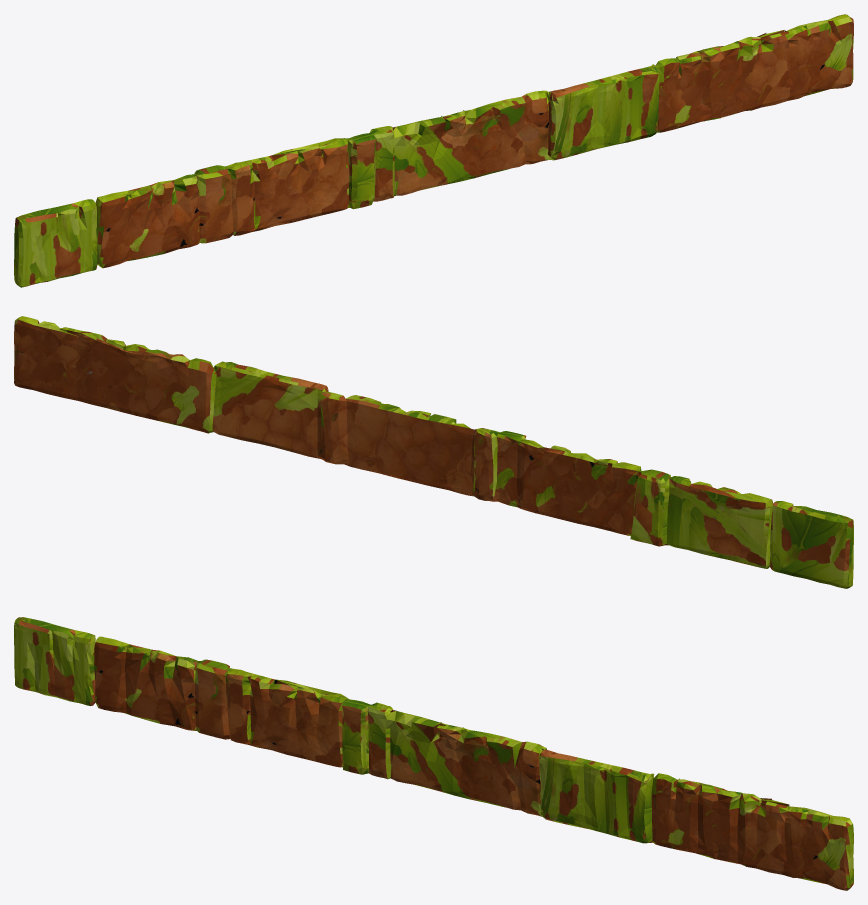
File: fence  alone 2.obj
The picture shows the model from 3 angles, top to bottom: view 1: azimuth 30°, elevation 25°; view 2: azimuth 150°, elevation 25°; view 3: azimuth 330°, elevation 25°; orthographic projection.
Parts seen in each view (by area): view 1: tripo_node_52cb7016-bd94-4118-a070-d7bdfb4ec321; view 2: tripo_node_52cb7016-bd94-4118-a070-d7bdfb4ec321; view 3: tripo_node_52cb7016-bd94-4118-a070-d7bdfb4ec321.
Boxes of the visible parts, x1=… form: tripo_node_52cb7016-bd94-4118-a070-d7bdfb4ec321: x1=14, y1=14, x2=853, y2=287; tripo_node_52cb7016-bd94-4118-a070-d7bdfb4ec321: x1=14, y1=316, x2=853, y2=588; tripo_node_52cb7016-bd94-4118-a070-d7bdfb4ec321: x1=14, y1=617, x2=853, y2=890.
Bounding box in the file's own units: 1 × 0.0807 × 0.0337.
